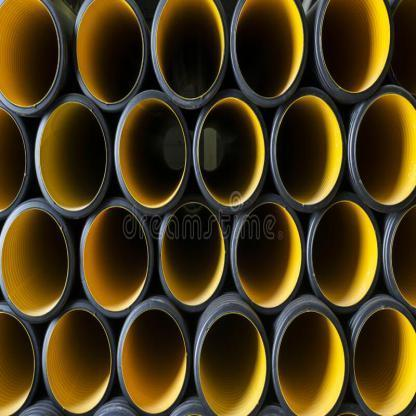pipe: (34, 92, 112, 218), (270, 88, 346, 212), (114, 90, 190, 214), (0, 200, 74, 322), (116, 298, 192, 416), (193, 90, 268, 209), (272, 301, 350, 415), (150, 0, 230, 111), (231, 196, 306, 314), (308, 195, 382, 312), (350, 84, 416, 214), (196, 301, 270, 415), (231, 0, 309, 108), (72, 0, 147, 111), (42, 304, 115, 415), (80, 201, 150, 316), (314, 0, 393, 101), (350, 298, 416, 416), (158, 199, 228, 310), (0, 0, 65, 117), (0, 304, 38, 416), (0, 106, 29, 217), (386, 203, 415, 313)
